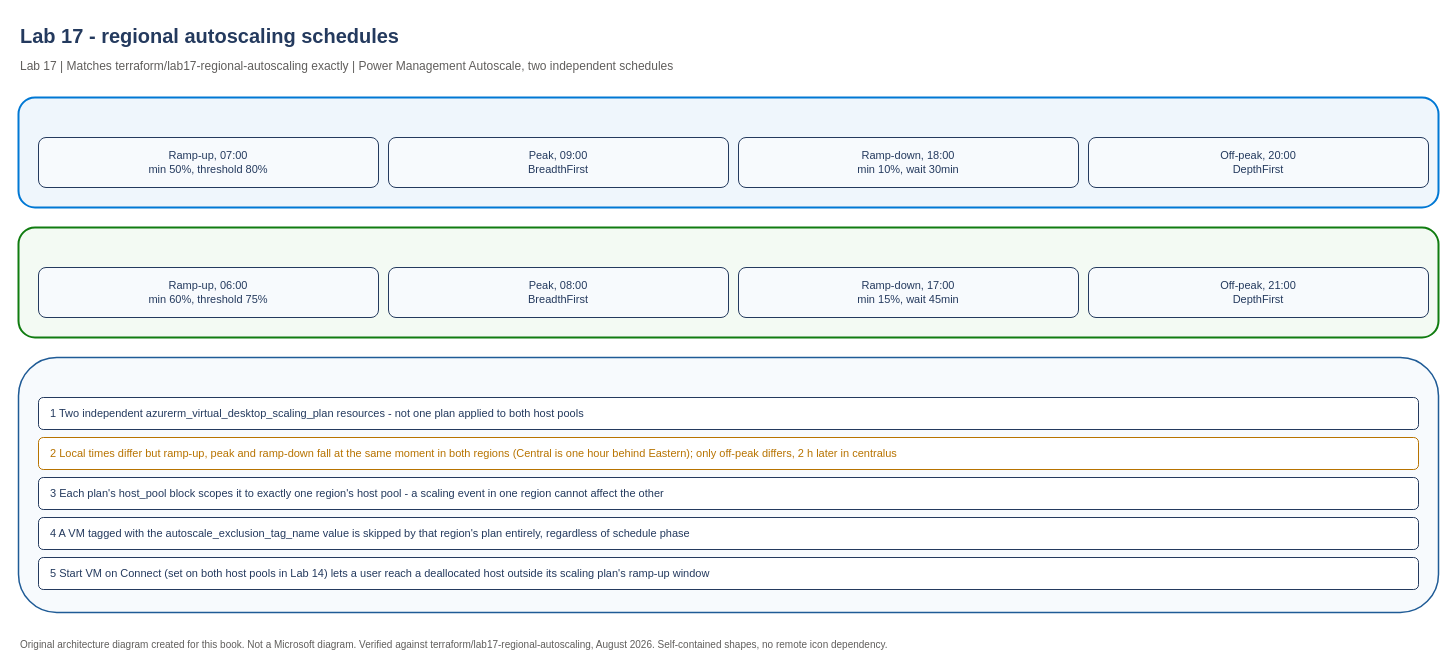
The diagram is 1456 pixels wide and 669 high, and some of its shapes have lost their labels. Here are the shapes that lost their labels. From the top down, the box of each, then its label:
(17, 96, 1439, 208): EASTUS2 - SP-AVD-LAB-EUS2-01 (EASTERN STANDARD TIME)
(17, 226, 1439, 338): CENTRALUS - SP-AVD-LAB-CUS-01 (CENTRAL STANDARD TIME)
(17, 356, 1439, 613): FLOWS AND DESIGN NOTES
